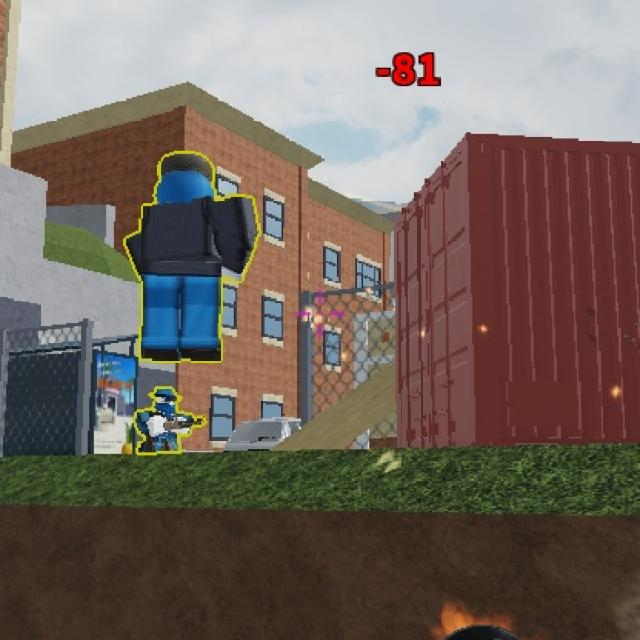player: (122, 150, 230, 351), (140, 380, 183, 455)
